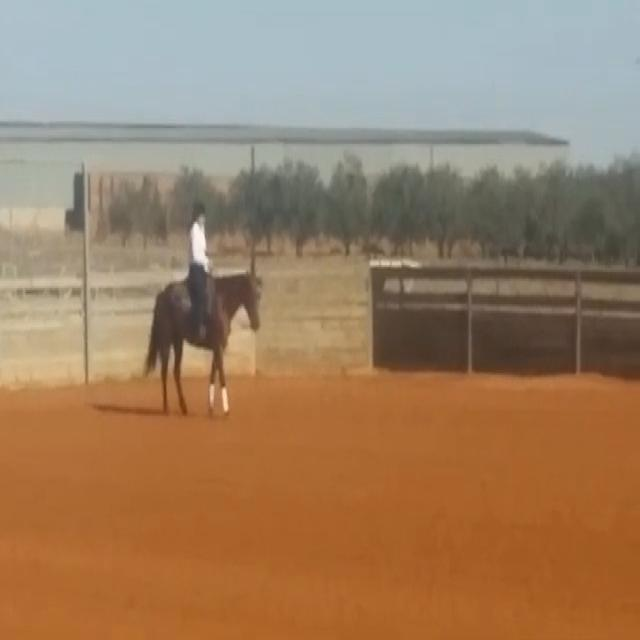horse: (142, 263, 264, 418)
